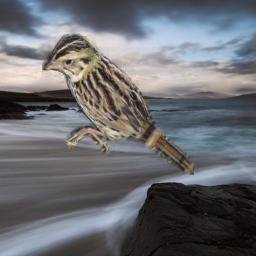Sparrow: (42, 33, 194, 175)
